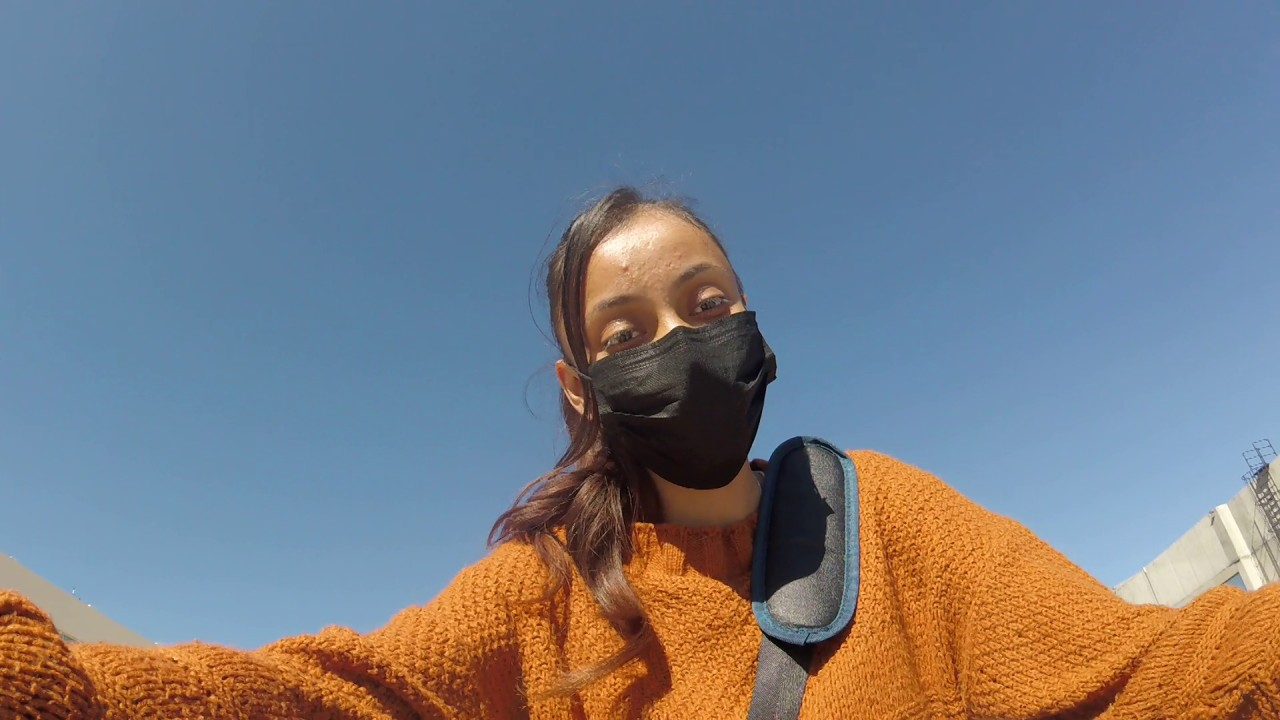Without Helmet: (521, 171, 779, 496)
